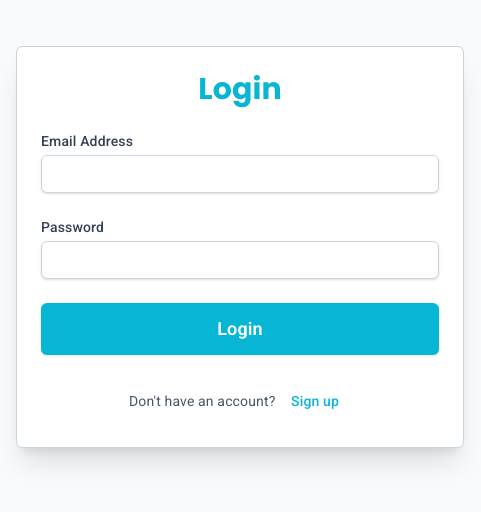
LoginPage › displays an error message with role="alert" on login failure
The image size is (481, 512).
Type "test@example.com" into the field labelled "Email Address" at (240, 174), box top-left (41, 155), bottom-right (439, 193)
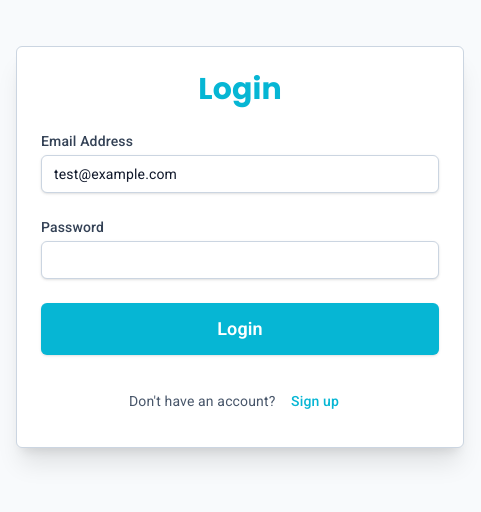
Type "password" into the password field labelled "Password" at (240, 260), box top-left (41, 241), bottom-right (439, 279)
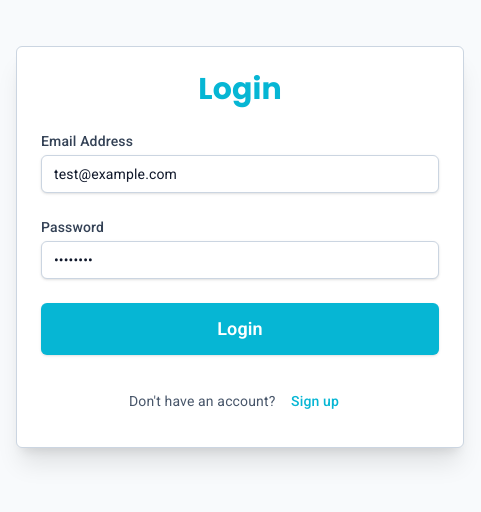
Click the button "Login" at (240, 329), box top-left (41, 303), bottom-right (439, 355)
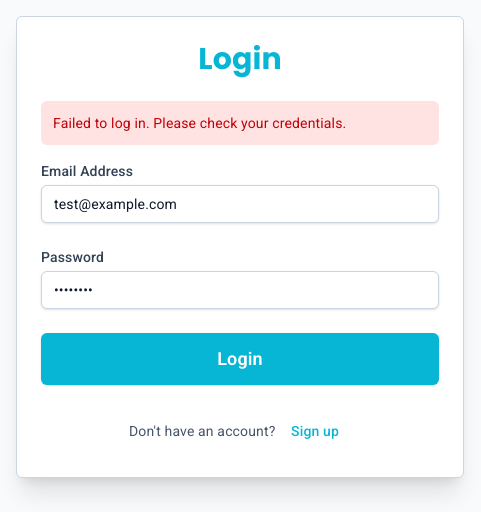
Check: the text "Failed to log in. Please check your credentials." is shown, box top-left (41, 101), bottom-right (439, 145)
